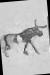E1: (2, 0, 49, 74)
